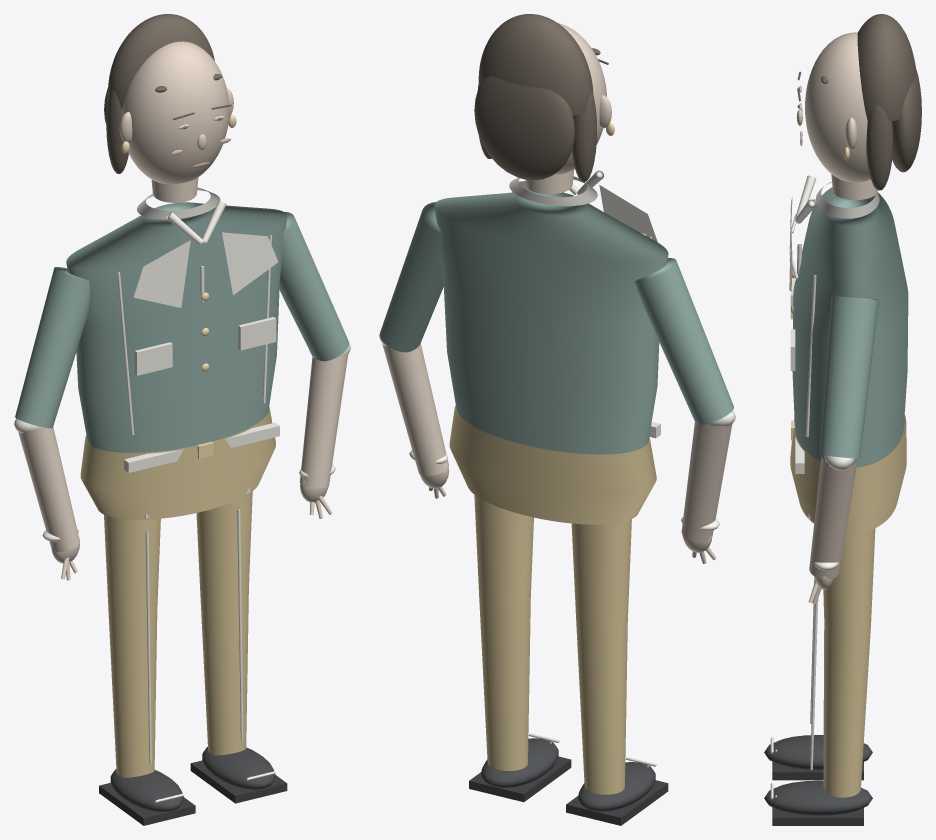
The model's file is nonBinary-regular.glb.
3 views of the same model, side by side, from view 1: azimuth 30°, elevation 25°; view 2: azimuth 150°, elevation 25°; view 3: azimuth 270°, elevation 25° (orthographic). The views are drawn at different scales.
Visible parts, largest first — view 1: StyleFit Parametric Digital Human; view 2: StyleFit Parametric Digital Human; view 3: StyleFit Parametric Digital Human.
Boxes of the visible parts, <box> form: StyleFit Parametric Digital Human: <box>14,14,350,825</box>; StyleFit Parametric Digital Human: <box>379,14,735,825</box>; StyleFit Parametric Digital Human: <box>764,14,921,825</box>.
Size of the model in its own units: 1.02 by 2.19 by 0.4058.
